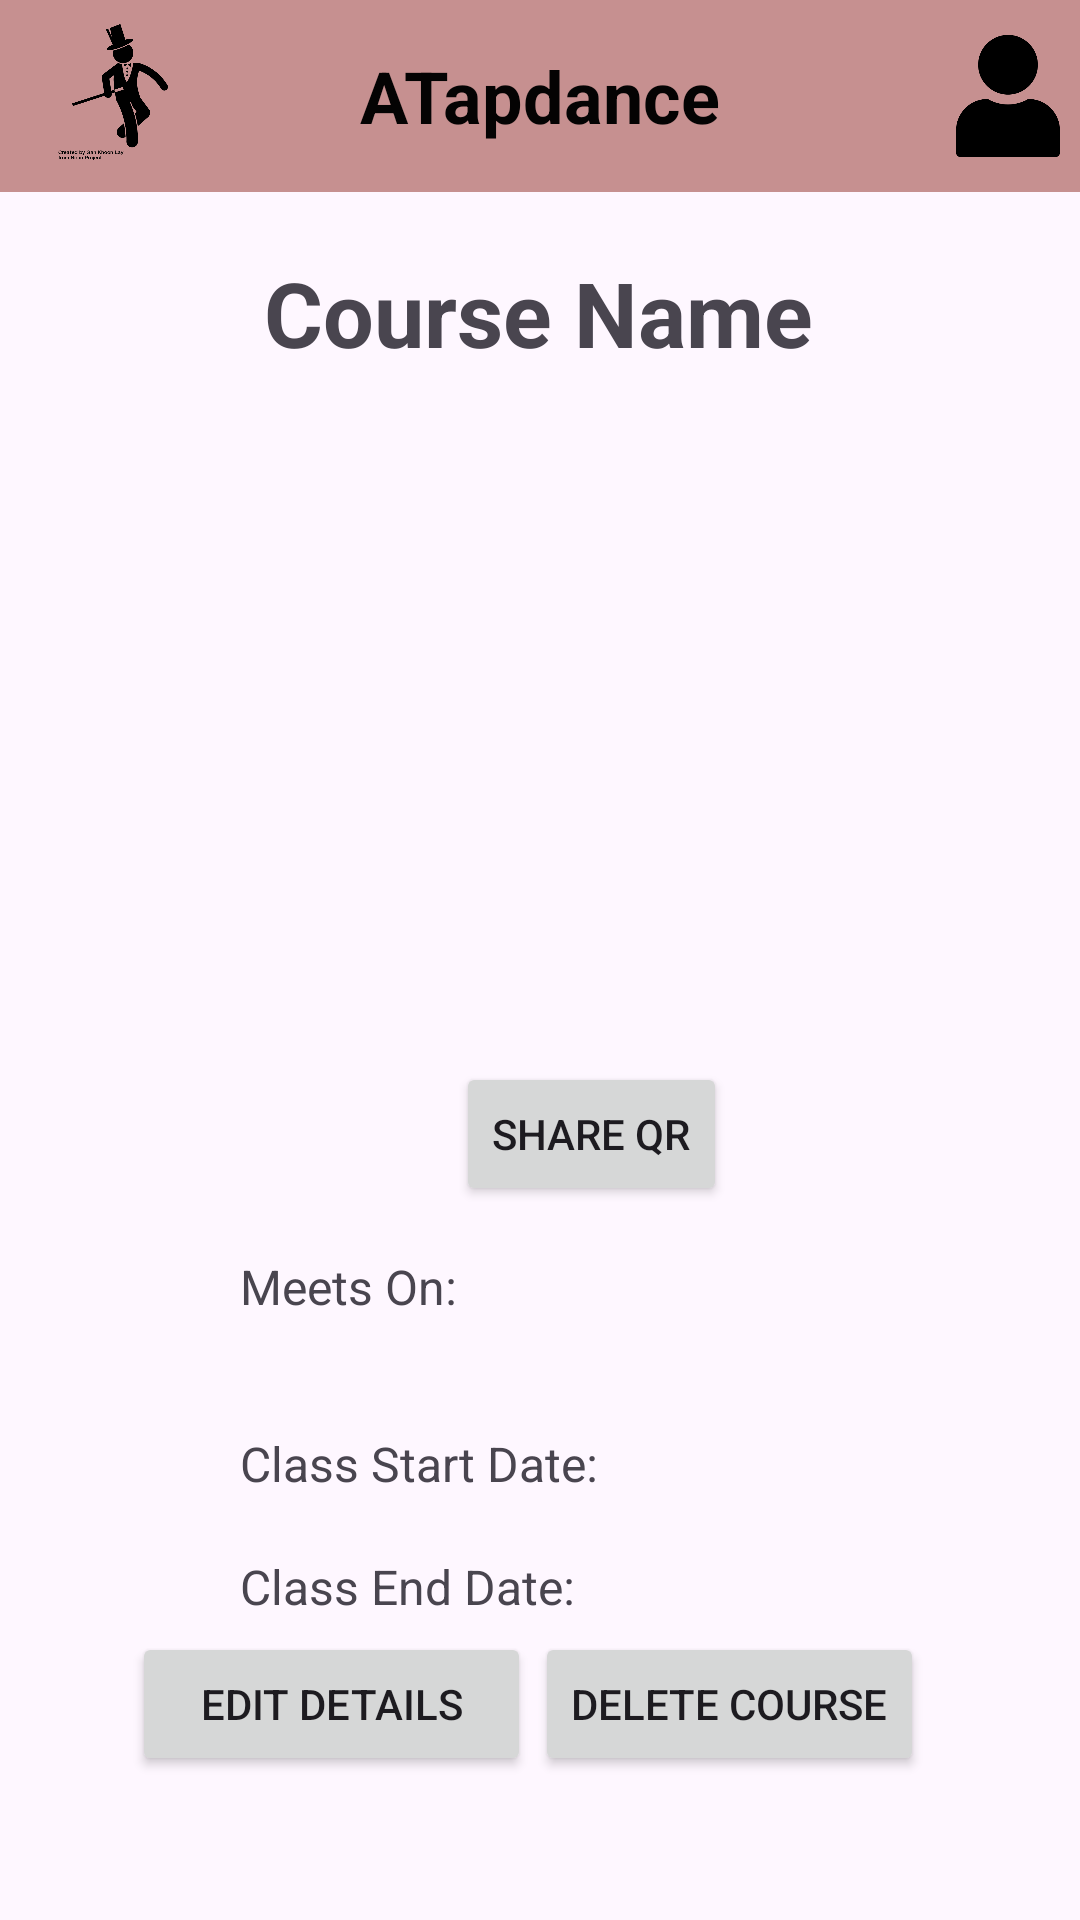

Locate icon controls on the screen. Image size 1080 × 1920, boxes as {"left": x1, "top": y1, "right": x2, "bottom": y2}.
profile: {"left": 956, "top": 35, "right": 1060, "bottom": 157}
tap dance: {"left": 58, "top": 24, "right": 168, "bottom": 160}
